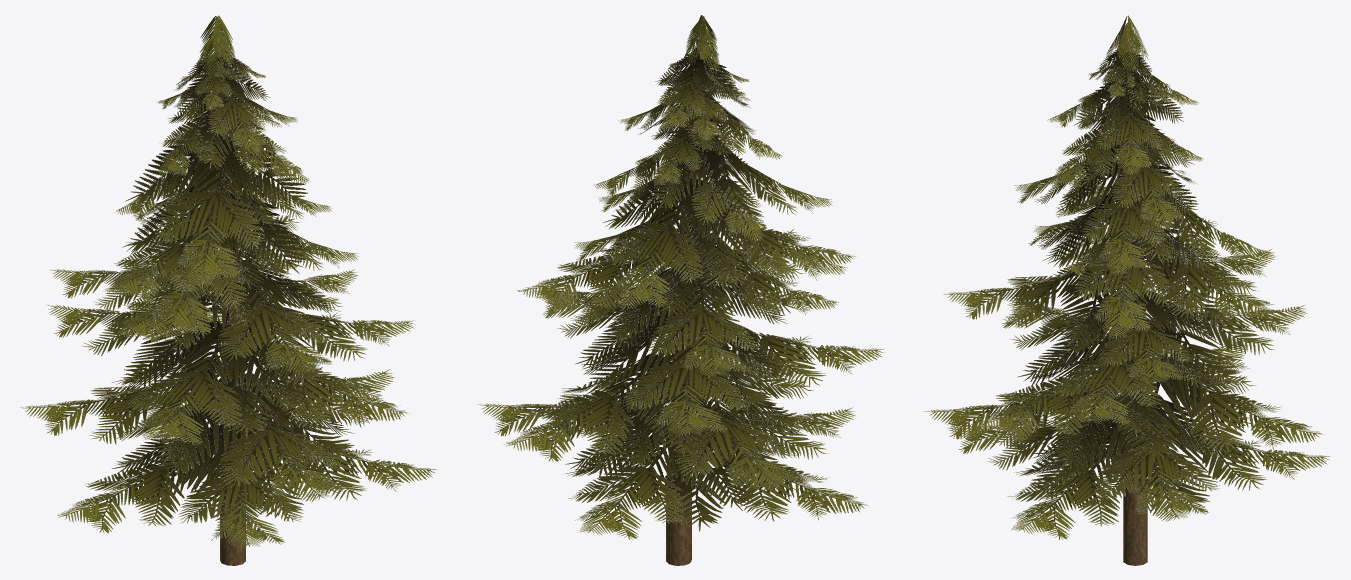
Rendered from PineTree.fbx.
3 renders of one model, left to right at view 1: azimuth 30°, elevation 25°; view 2: azimuth 150°, elevation 25°; view 3: azimuth 270°, elevation 25°, orthographic. The views are drawn at different scales.
Parts seen in each view (by area): view 1: Trank.001; view 2: Trank.001; view 3: Trank.001.
Boxes of the visible parts, left/top/right/bottom form: Trank.001: left=19, top=15, right=436, bottom=565; Trank.001: left=477, top=15, right=884, bottom=565; Trank.001: left=924, top=15, right=1330, bottom=565.
Size of the model in its own units: 434 by 616 by 434.
